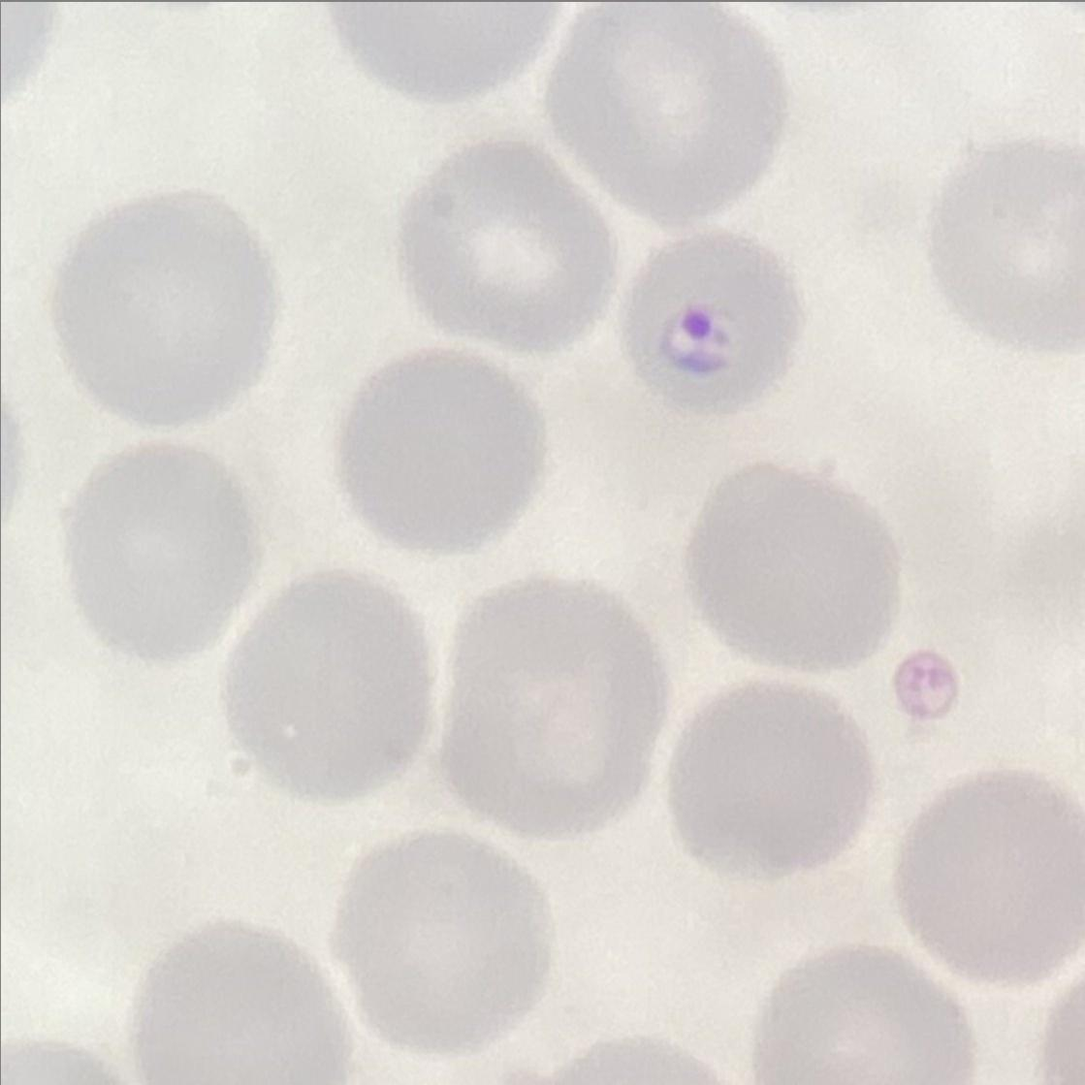Infected: (617, 231, 808, 417)
Uninfected: (433, 567, 661, 827), (553, 0, 786, 228), (52, 182, 263, 432), (339, 828, 556, 1064), (685, 454, 903, 670), (659, 680, 883, 883), (404, 130, 612, 348), (886, 764, 1085, 987), (226, 576, 424, 797), (336, 353, 545, 560), (58, 447, 263, 655), (133, 916, 351, 1085), (931, 127, 1085, 342), (750, 938, 972, 1085)
